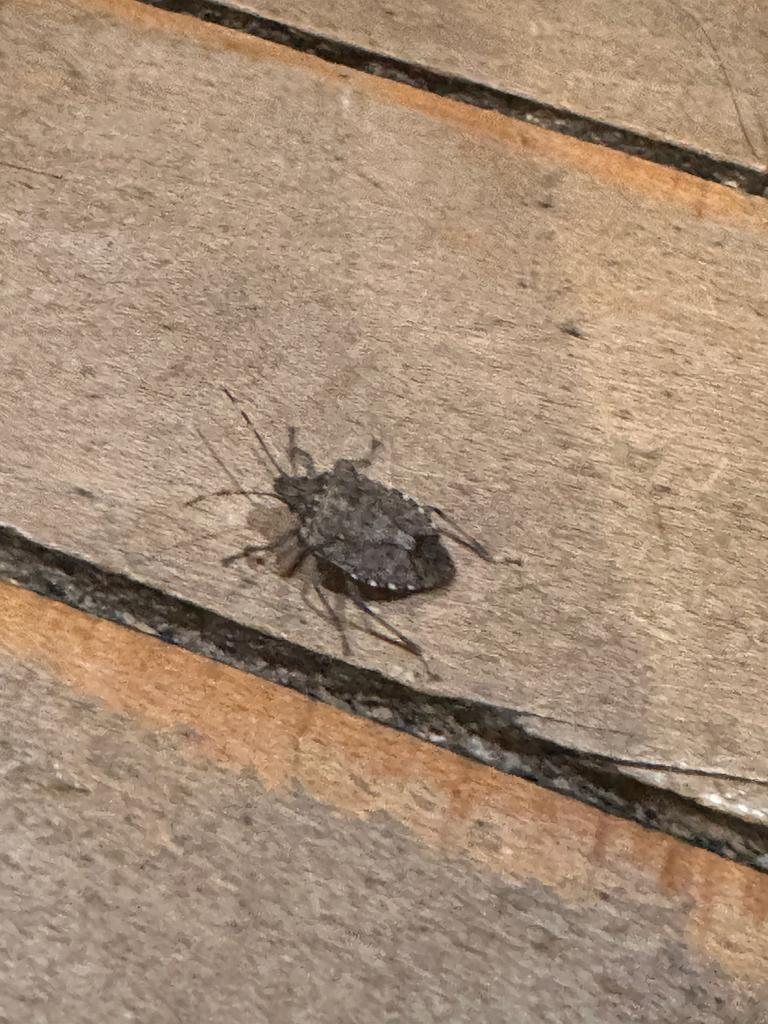stink_bugs: (139, 355, 577, 716)
